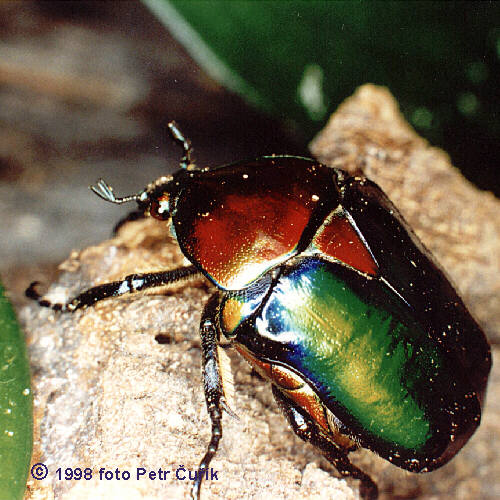Protaetia_speciosa_jousselini: (24, 115, 494, 497)
